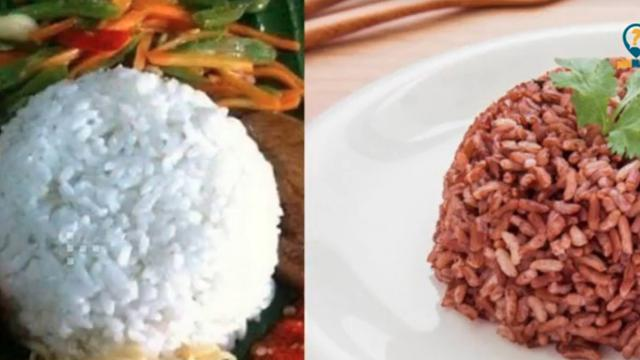Nasi Putih: (4, 45, 277, 359)
